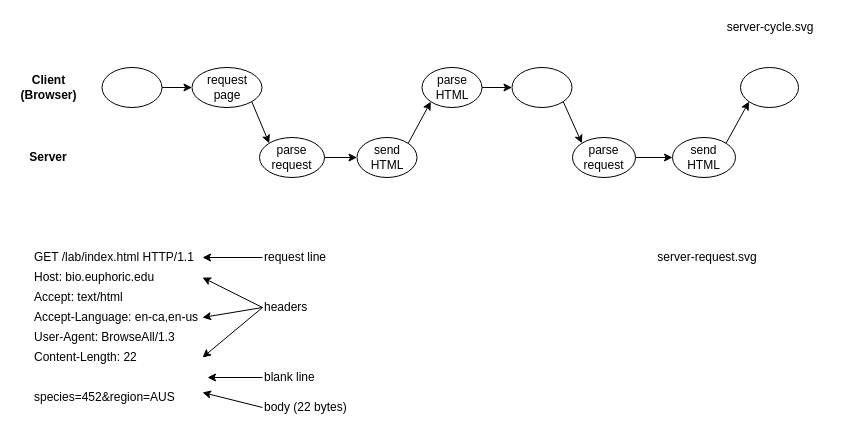
The diagram is 842 pixels wide and 434 high, and some of its shapes have lost their labels. The shapes that lost their labels are listed below. From the top down, each one's box as (x1, y1, x2, y2) in pixels, then its label:
(101, 66, 162, 108): click link
(511, 66, 572, 108): request image
(740, 66, 798, 108): display page
